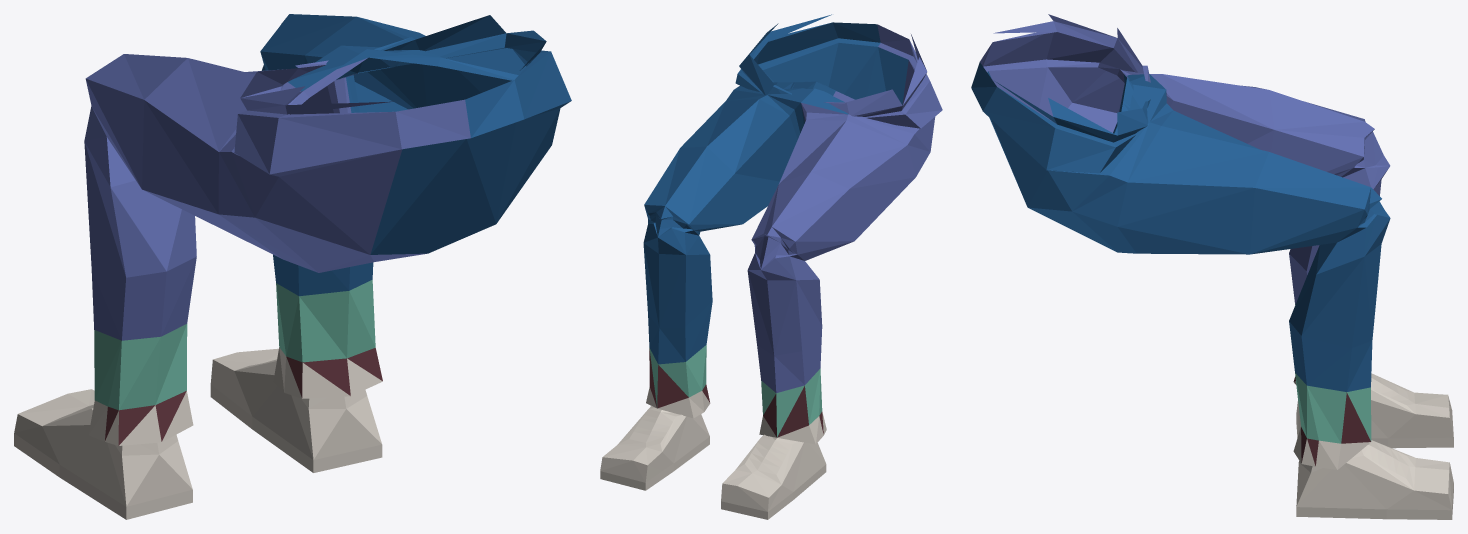
Rendered from Daughter_01_Legs_79.obj.
The picture shows the model from 3 angles, left to right: view 1: azimuth 30°, elevation 25°; view 2: azimuth 150°, elevation 25°; view 3: azimuth 270°, elevation 25°; orthographic projection. The views are drawn at different scales.
Parts seen in each view (by area): view 1: Daughter_01_Legs_79; view 2: Daughter_01_Legs_79; view 3: Daughter_01_Legs_79.
Boxes of the visible parts, <box> form: Daughter_01_Legs_79: <box>14,14,571,519</box>; Daughter_01_Legs_79: <box>600,14,942,519</box>; Daughter_01_Legs_79: <box>971,14,1453,519</box>.
Size of the model in its own units: 0.381 by 0.6481 by 0.6846.
1 material, 1 textured.
